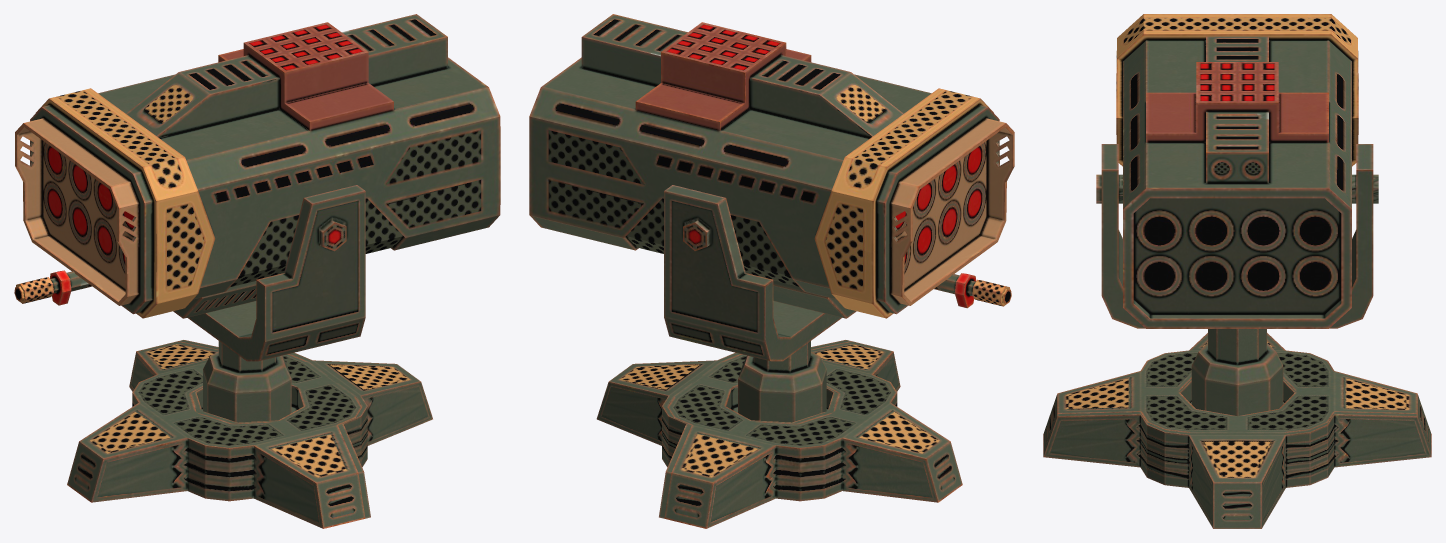
File: Tower.fbx
The picture shows the model from 3 angles, left to right: view 1: azimuth 30°, elevation 25°; view 2: azimuth 150°, elevation 25°; view 3: azimuth 270°, elevation 25°; orthographic projection.
Parts seen in each view (by area): view 1: low_turret_5_root, low_bottom_5, low_bottom_1, low_turret_1_root; view 2: low_turret_5_root, low_bottom_5, low_bottom_1, low_turret_1_root; view 3: low_turret_5_root, low_bottom_1, low_bottom_5.
Part boxes in pixels (left/top/right/bottom): low_turret_5_root: left=15, top=14, right=500, bottom=361; low_bottom_5: left=67, top=341, right=365, bottom=528; low_bottom_1: left=179, top=340, right=432, bottom=518; low_turret_1_root: left=14, top=270, right=256, bottom=318; low_turret_5_root: left=529, top=14, right=1014, bottom=361; low_bottom_5: left=664, top=341, right=962, bottom=528; low_bottom_1: left=596, top=340, right=850, bottom=518; low_turret_1_root: left=773, top=273, right=1011, bottom=318; low_turret_5_root: left=1096, top=14, right=1378, bottom=328; low_bottom_1: left=1043, top=379, right=1431, bottom=528; low_bottom_5: left=1043, top=329, right=1431, bottom=453.
Bounding box in the file's own units: 252 × 222 × 200.
Materials: 4 (4 with a texture image).
